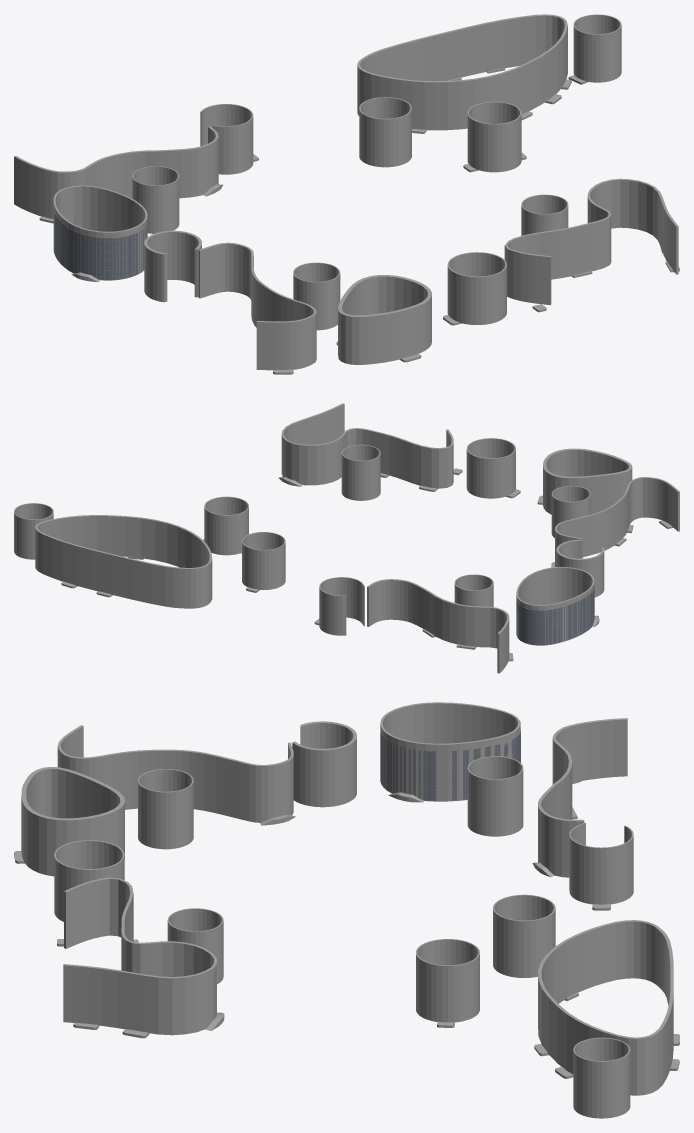
3 views of the same model, one above another, from view 1: azimuth 30°, elevation 25°; view 2: azimuth 150°, elevation 25°; view 3: azimuth 270°, elevation 25° (orthographic). The views are drawn at different scales.
Parts seen in each view (by area): view 1: boliyuan3, polySurface6829; view 2: boliyuan3, polySurface6829; view 3: boliyuan3, polySurface6829.
Part boxes in pixels (x1,y1,x2,y2): boliyuan3: (14,14,678,370); polySurface6829: (54,213,147,279); boliyuan3: (14,403,679,673); polySurface6829: (516,587,594,645); boliyuan3: (21,702,673,1118); polySurface6829: (380,731,520,800).
Bounding box in the file's own units: 18586 × 14523 × 1415.
